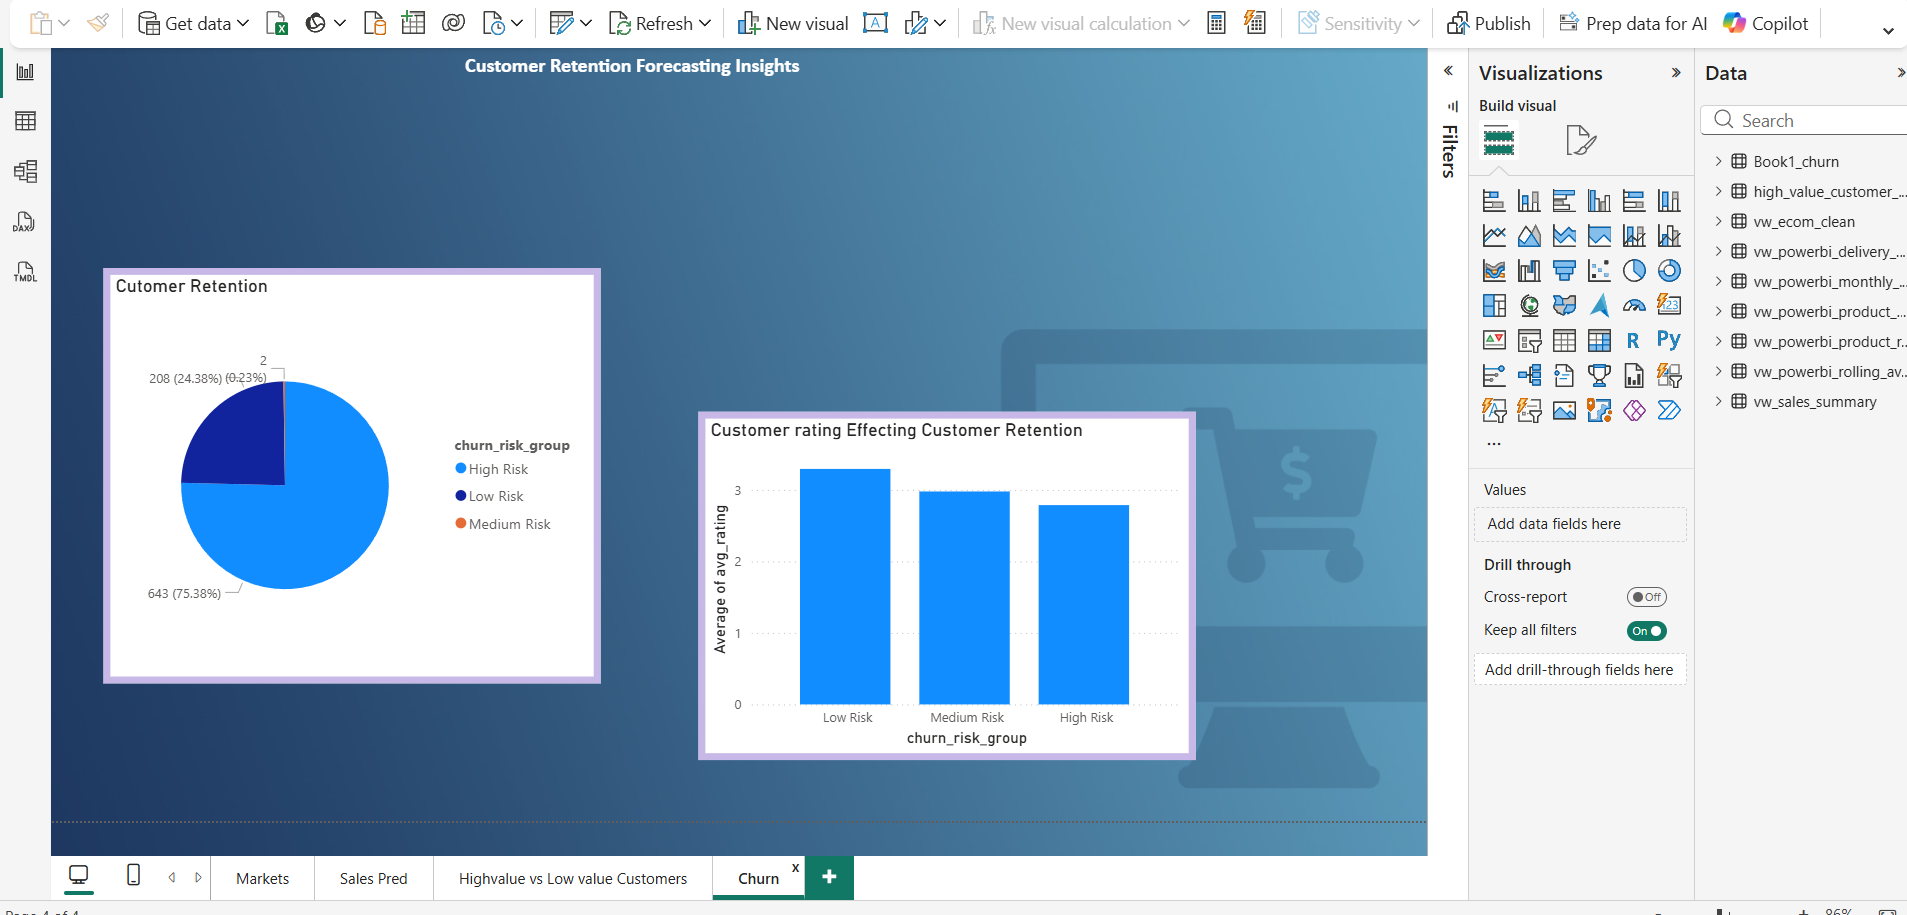

The page's visual inventory and layout, read from the dashboard file:
{"tool":"powerbi","page":{"name":"Churn","canvas":[1280,720],"ordinal":3},"visuals":[{"type":"pieChart","title":"Cutomer Retention","fields":{"Category":["Book1_churn.churn_risk_group"],"Y":["Sum(Book1_churn.customer_segment)"]},"box":[48.9,204.4,462.2,386.7],"z":0},{"type":"columnChart","title":"Customer rating Effecting Customer Retention","fields":{"Category":["Book1_churn.churn_risk_group"],"Y":["Avg(Book1_churn.avg_rating)"]},"box":[602.4,338.9,462.4,323.8],"z":1000},{"type":"textbox","box":[380,0,462.2,37.8],"z":2000}]}

Visuals, with their boxes on the page's 1280x720 design canvas (x1, y1, x2, y2). These are canvas units, not pixel positions in the 1907x915 screenshot, which may show the page scaled, cropped or inside an application window:
"Cutomer Retention" pieChart: [x1=49, y1=204, x2=511, y2=591]
"Customer rating Effecting Customer Retention" columnChart: [x1=602, y1=339, x2=1065, y2=663]
textbox: [x1=380, y1=0, x2=842, y2=38]
